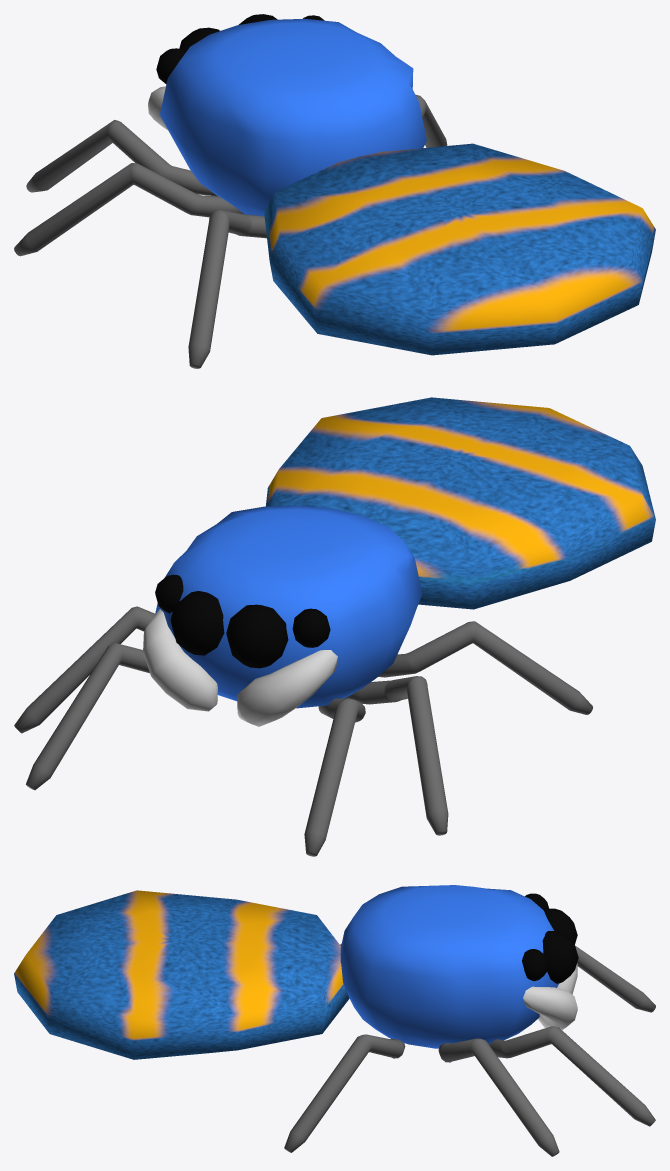
The model's file is Spider58.glb.
3 renders of one model, top to bottom at view 1: azimuth 30°, elevation 25°; view 2: azimuth 150°, elevation 25°; view 3: azimuth 270°, elevation 25°, orthographic. The views are drawn at different scales.
Visible parts, largest first — view 1: Butt, Head, Leg.003, Leg.005, Leg.001, Leg.002, Eye.002; view 2: Butt, Head, Leg.005, Leg.003, Pincer.001, Pincer, Leg, Leg.001, Leg.002, Eye, Eye.001, Eye.002 (+1 smaller); view 3: Butt, Head, Leg, Leg.002, Leg.004, Pincer, Leg.001, Eye.001, Eye.003, Eye.
Boxes of the visible parts, box(x1,y1,x2,y2) form: Butt: box(264, 143, 655, 355); Head: box(159, 18, 426, 216); Leg.003: box(14, 163, 244, 256); Leg.005: box(188, 210, 266, 368); Leg.001: box(26, 120, 217, 196); Leg.002: box(415, 94, 447, 147); Eye.002: box(156, 48, 185, 84); Butt: box(265, 397, 655, 609); Head: box(155, 505, 422, 708); Leg.005: box(378, 621, 592, 714); Leg.003: box(343, 676, 448, 835); Pincer.001: box(237, 650, 337, 726); Pincer: box(143, 609, 217, 711); Leg: box(26, 642, 149, 790); Leg.001: box(304, 698, 365, 856); Leg.002: box(14, 606, 154, 733); Eye: box(226, 604, 288, 668); Eye.001: box(170, 591, 224, 655); Eye.002: box(292, 608, 330, 647); Butt: box(14, 890, 349, 1059); Head: box(340, 885, 559, 1048); Leg: box(489, 1026, 655, 1126); Leg.002: box(438, 1038, 559, 1156); Leg.004: box(284, 1034, 405, 1152); Pincer: box(523, 986, 577, 1029); Leg.001: box(575, 945, 655, 1012); Eye.001: box(542, 931, 578, 983); Eye.003: box(522, 949, 548, 981); Eye: box(543, 908, 577, 944).
Size of the model in its own units: 0.335 by 0.1467 by 0.521.
Materials: 5 (1 with a texture image).
